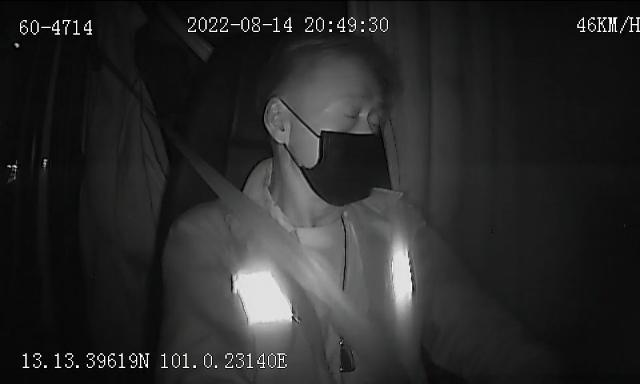Seatbelt: (184, 147, 382, 367)
